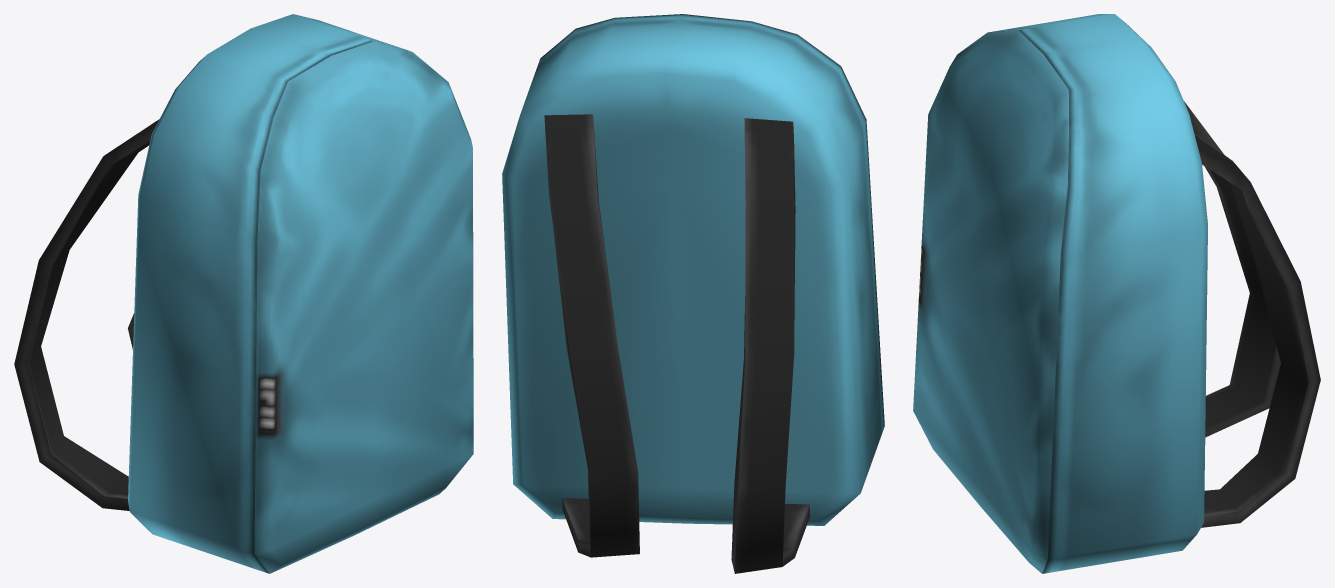
File: TianZhuJiaoTang_01_shuangjianbao_01.FBX
The picture shows the model from 3 angles, left to right: view 1: azimuth 30°, elevation 25°; view 2: azimuth 150°, elevation 25°; view 3: azimuth 270°, elevation 25°; orthographic projection.
Visible parts, largest first — view 1: TianZhuJiaoTang_01_shuangjianbao_01; view 2: TianZhuJiaoTang_01_shuangjianbao_01; view 3: TianZhuJiaoTang_01_shuangjianbao_01.
Boxes of the visible parts, bbox=[...] form: TianZhuJiaoTang_01_shuangjianbao_01: bbox=[14, 14, 473, 573]; TianZhuJiaoTang_01_shuangjianbao_01: bbox=[502, 14, 884, 573]; TianZhuJiaoTang_01_shuangjianbao_01: bbox=[913, 14, 1320, 573].
Bounding box in the file's own units: 180 × 224 × 177.
